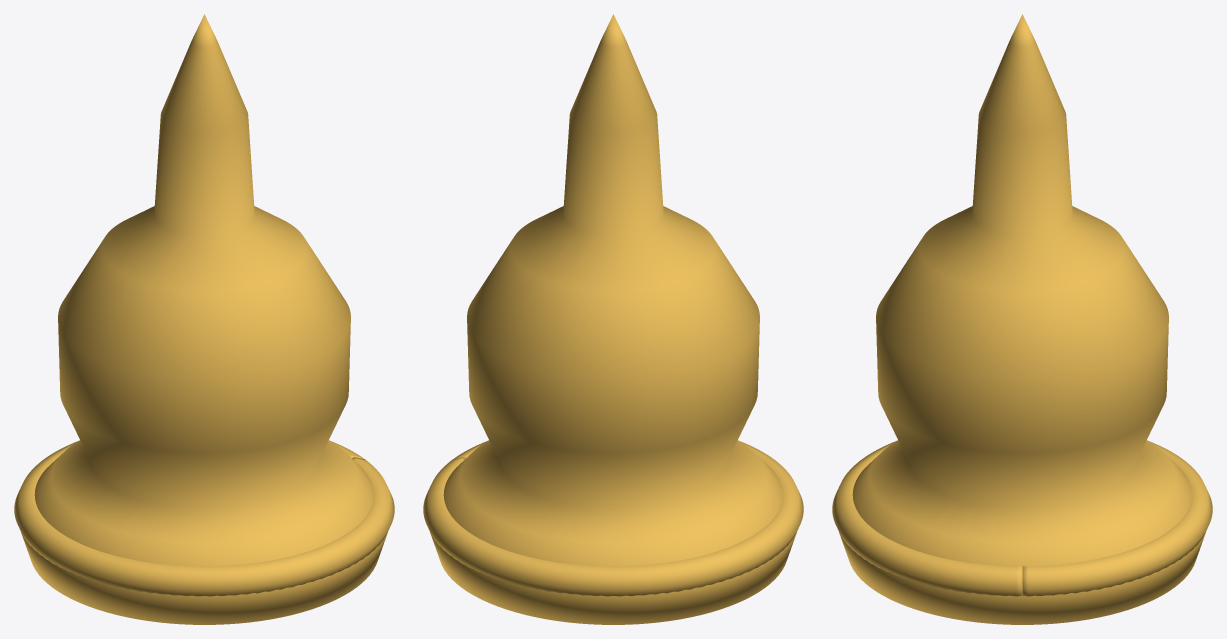
The model's file is SM_06_Finial.fbx.
The picture shows the model from 3 angles, left to right: view 1: azimuth 30°, elevation 25°; view 2: azimuth 150°, elevation 25°; view 3: azimuth 270°, elevation 25°; orthographic projection.
Visible parts, largest first — view 1: Finial; view 2: Finial; view 3: Finial.
Boxes of the visible parts, x1,y1,x2,y2 form: Finial: [14, 14, 394, 624]; Finial: [423, 14, 803, 624]; Finial: [832, 14, 1212, 624].
Bounding box in the file's own units: 174 × 174 × 271.
